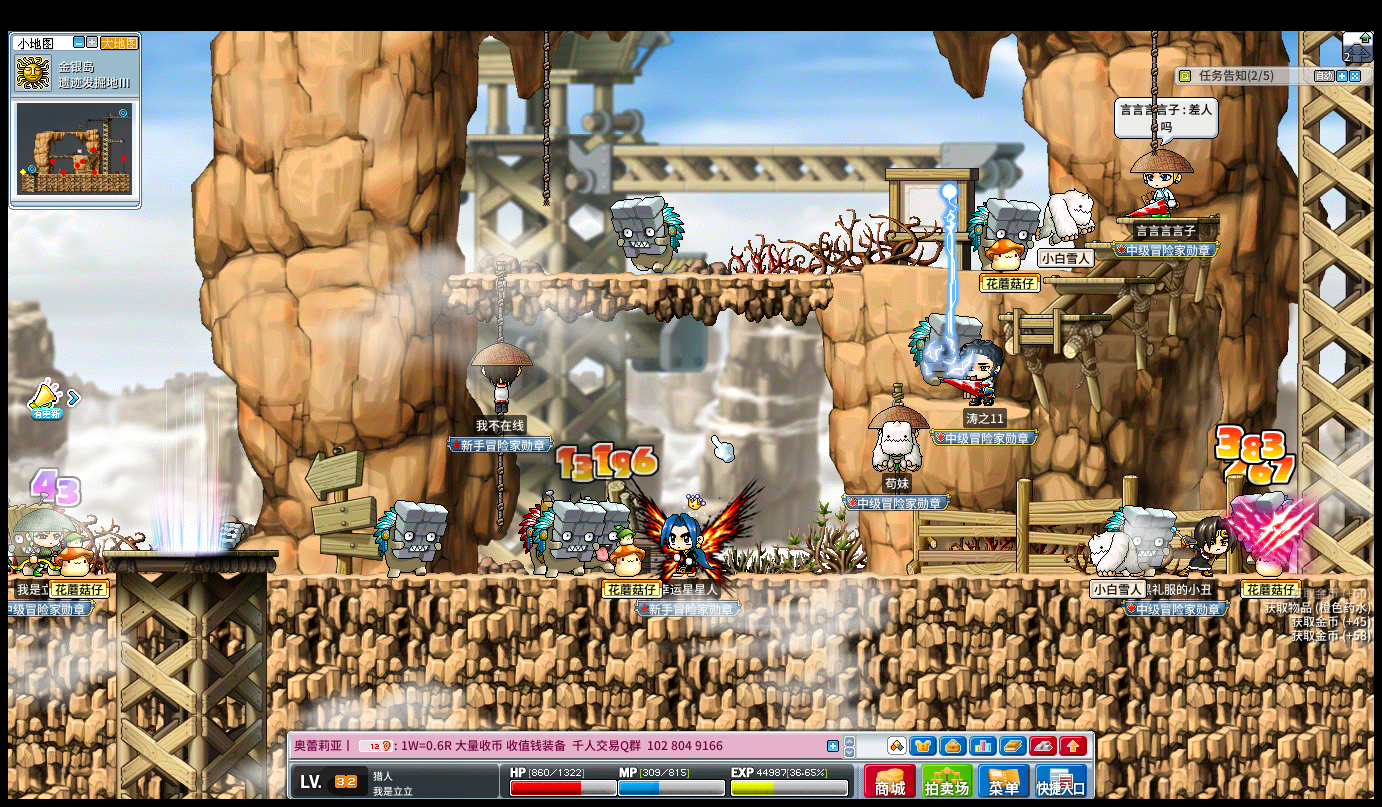floor: (243, 573, 1366, 584), (280, 571, 1376, 582), (449, 271, 834, 283), (874, 265, 1079, 274), (913, 398, 1035, 413), (100, 549, 275, 558), (9, 573, 114, 585), (949, 266, 1080, 274), (998, 312, 1107, 321), (1044, 276, 1157, 284)
monster: (609, 195, 685, 275), (529, 499, 603, 577), (375, 500, 449, 577), (907, 312, 972, 389), (1115, 503, 1176, 574), (969, 198, 1037, 241)
rope: (541, 29, 551, 204), (1149, 30, 1158, 146), (492, 265, 505, 341), (1148, 30, 1157, 124), (494, 451, 503, 534)
